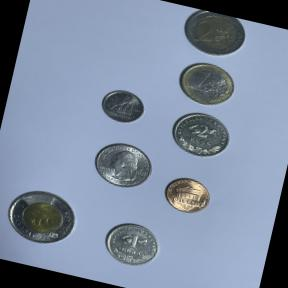coin: (0, 181, 84, 254), (172, 6, 254, 66), (163, 103, 238, 166), (86, 135, 160, 197), (170, 54, 243, 115), (92, 81, 150, 132), (158, 170, 216, 220)
